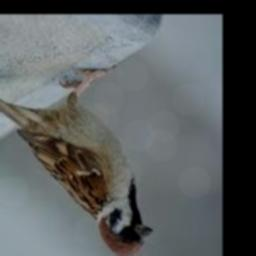Sparrow: (0, 69, 152, 256)
